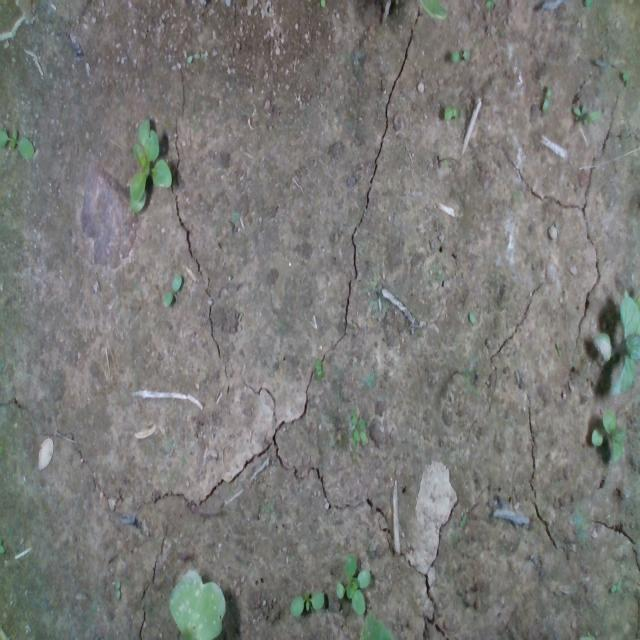weed: (289, 586, 325, 618), (160, 272, 182, 310), (540, 84, 552, 116), (572, 100, 588, 124), (450, 46, 472, 62), (314, 356, 323, 380)
